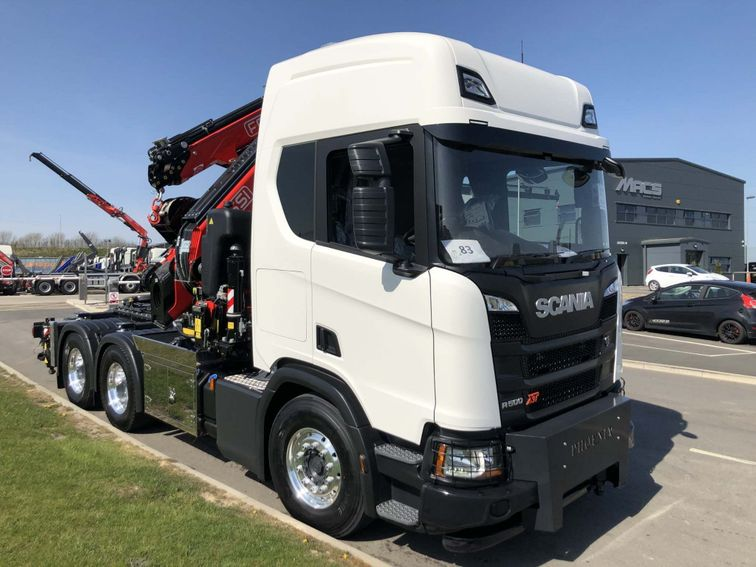Car: (618, 279, 755, 344), (643, 263, 728, 293)
Semi: (31, 31, 634, 551)
